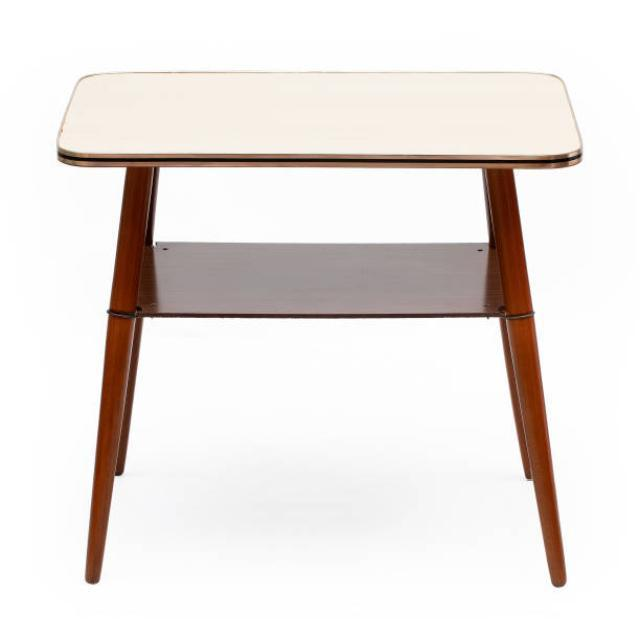table: (56, 69, 584, 588)
